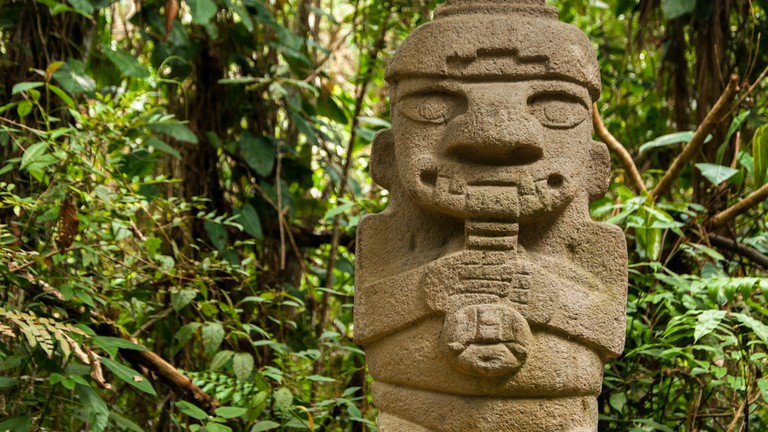person-like: (347, 1, 635, 432)
